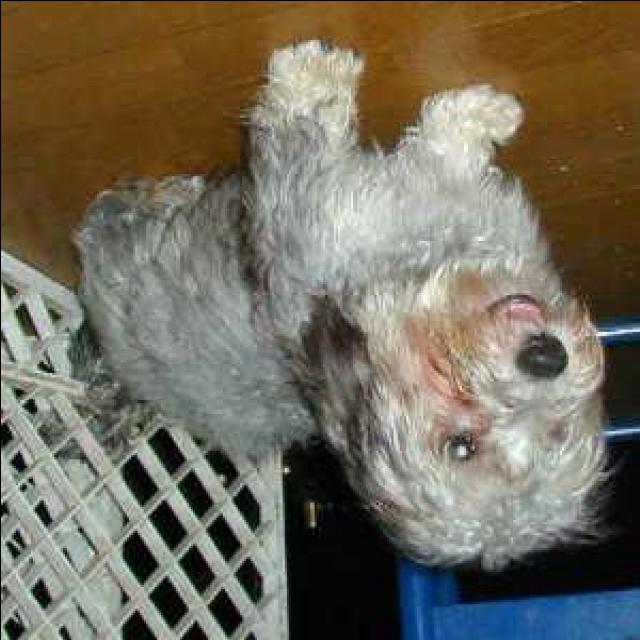dandie_dinmont: (74, 34, 602, 566)
